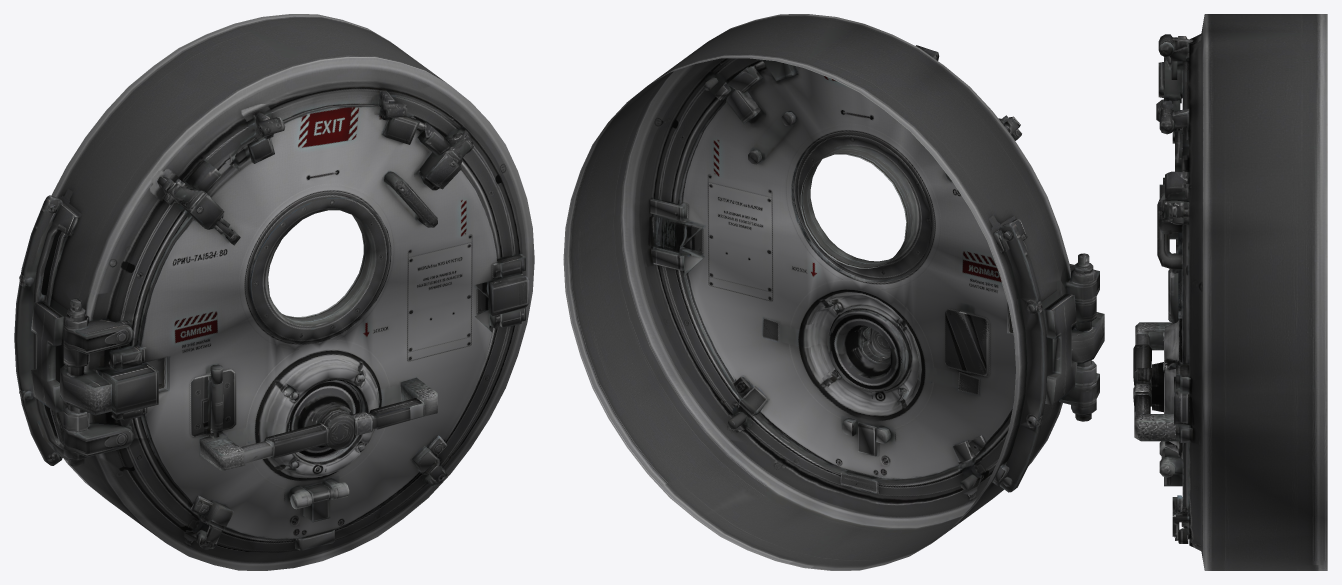
Rendered from vault+door+3d+model.fbx.
3 views of the same model, side by side, from view 1: azimuth 30°, elevation 25°; view 2: azimuth 150°, elevation 25°; view 3: azimuth 270°, elevation 25° (orthographic).
Parts seen in each view (by area): view 1: tripo_node_f98f635f-4839-422a-87e9-52554df29ace; view 2: tripo_node_f98f635f-4839-422a-87e9-52554df29ace; view 3: tripo_node_f98f635f-4839-422a-87e9-52554df29ace.
Part boxes in pixels (<box>): tripo_node_f98f635f-4839-422a-87e9-52554df29ace: <box>14,14,534,570</box>; tripo_node_f98f635f-4839-422a-87e9-52554df29ace: <box>563,14,1104,570</box>; tripo_node_f98f635f-4839-422a-87e9-52554df29ace: <box>1133,14,1327,570</box>.
Bounding box in the file's own units: 0.9824 × 0.998 × 0.3457.
